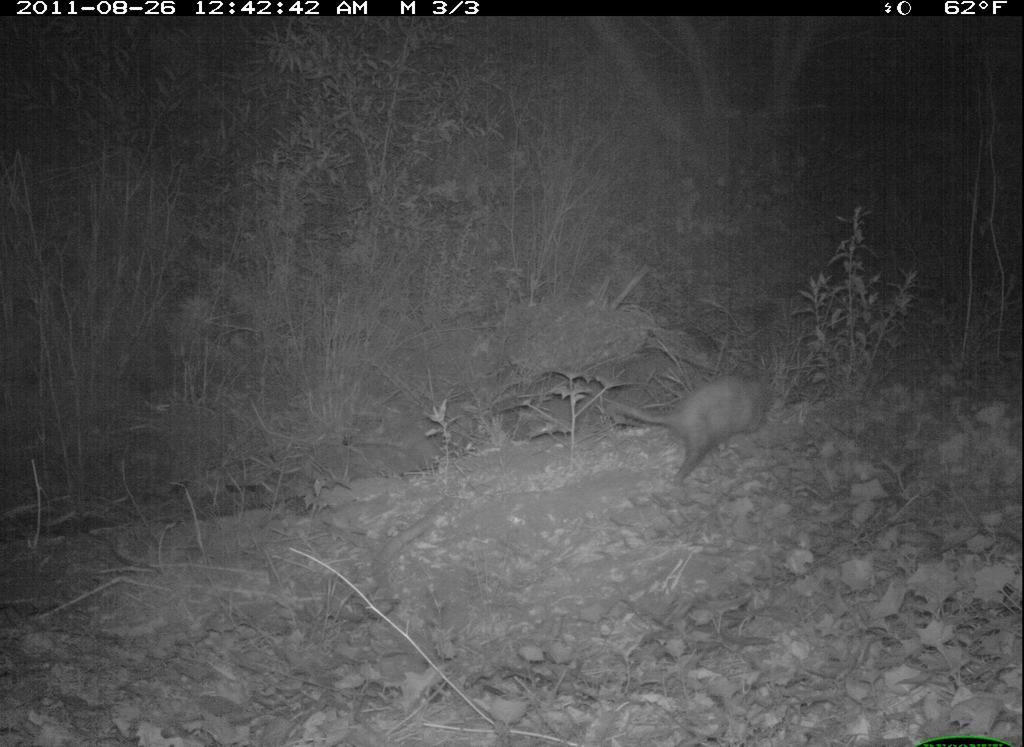opossum: (611, 369, 784, 487)
